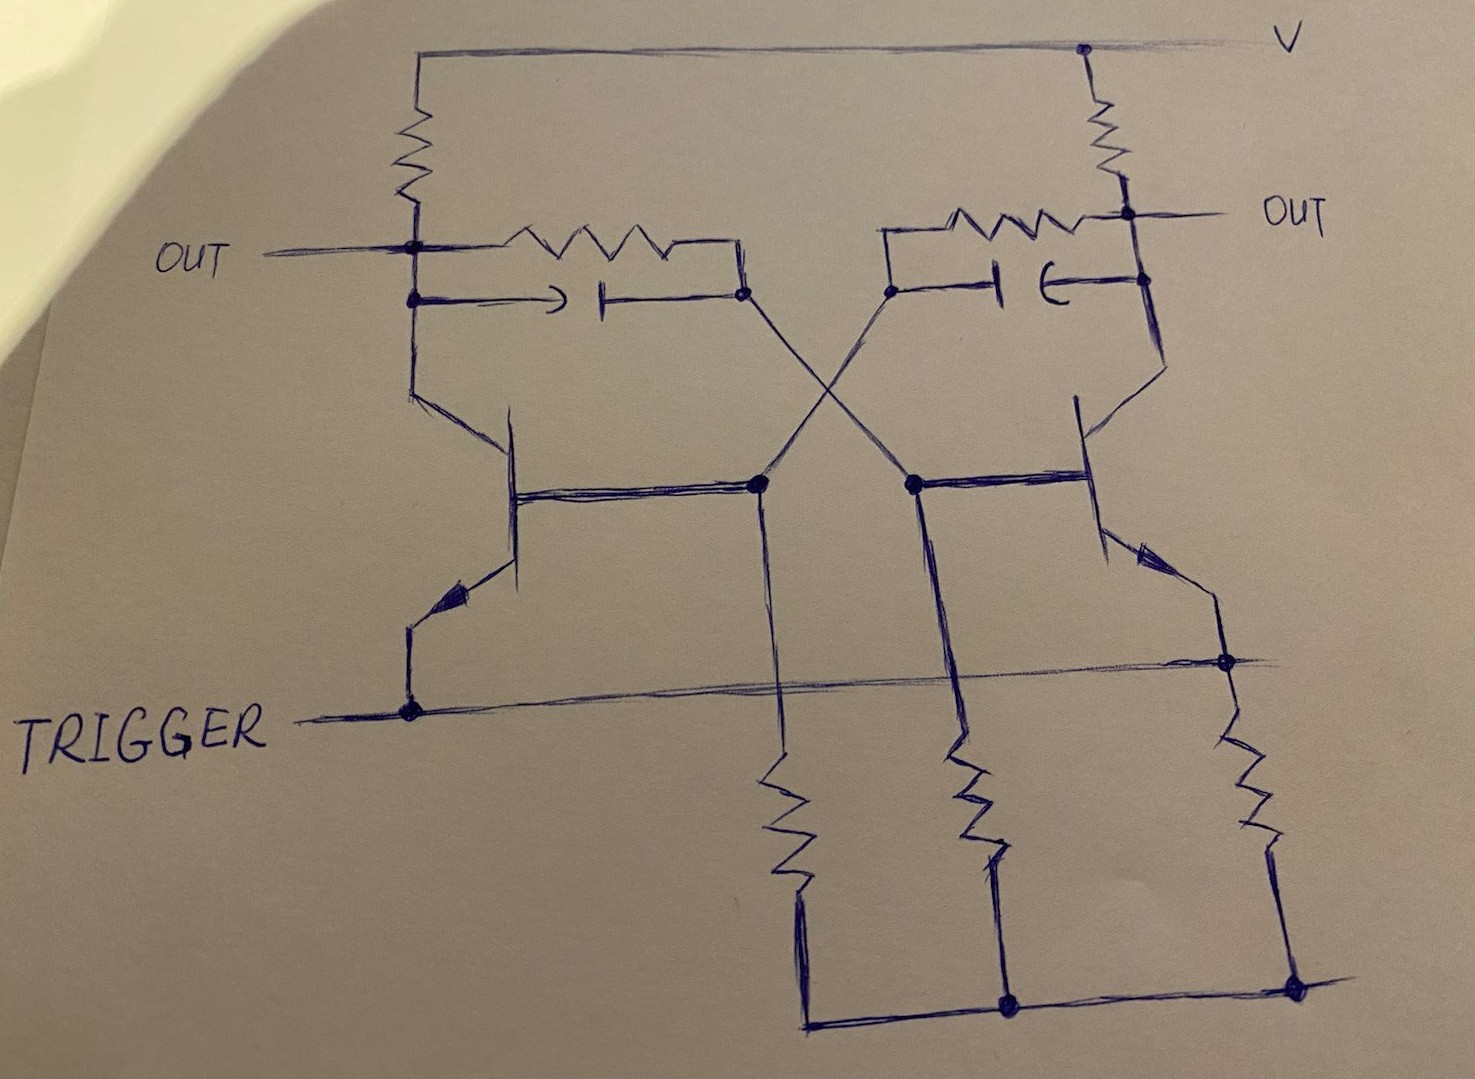capacitor.unpolarized: (973, 254, 1078, 315), (530, 271, 623, 326)
crossover: (799, 359, 862, 415), (765, 669, 800, 704), (934, 661, 973, 693)
junction: (978, 969, 1035, 1039), (1189, 635, 1260, 691), (778, 995, 835, 1052), (880, 459, 946, 507), (726, 452, 786, 505), (385, 686, 441, 741), (1122, 254, 1169, 300), (1272, 963, 1314, 1015), (1062, 26, 1109, 68), (394, 281, 436, 323), (397, 225, 441, 265), (1105, 194, 1147, 230), (867, 213, 912, 247), (724, 276, 767, 310), (873, 270, 913, 306), (720, 225, 755, 261), (401, 36, 433, 68)
resistor: (1216, 709, 1297, 859), (940, 725, 1018, 879), (752, 750, 822, 905), (496, 218, 683, 265), (934, 202, 1093, 247), (392, 102, 442, 210), (1084, 89, 1138, 189)
terminal: (1135, 29, 1243, 66), (283, 707, 350, 739), (1174, 197, 1249, 226), (253, 236, 322, 266), (1315, 968, 1383, 989)
text: (8, 701, 275, 779), (1257, 188, 1342, 247), (152, 234, 232, 283), (1263, 14, 1310, 60)
transistor: (1065, 363, 1241, 605), (394, 381, 533, 647)
